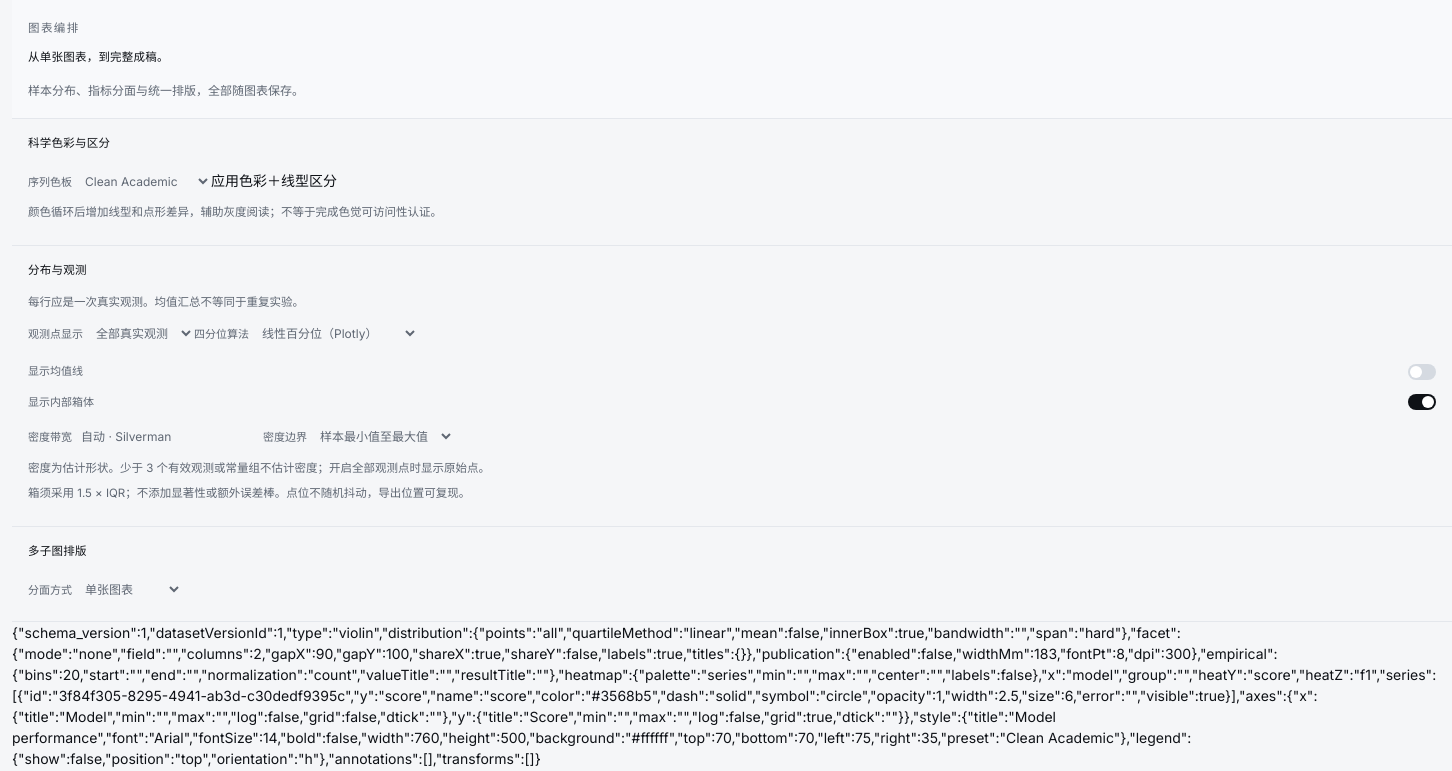
Test: professional plots › edits distribution and subplot settings together without losing them on type switches
This screenshot has width=1452, height=771.
Type "0.3" into the field labelled "密度带宽" at point(168, 437), box 72,422 -> 263,453
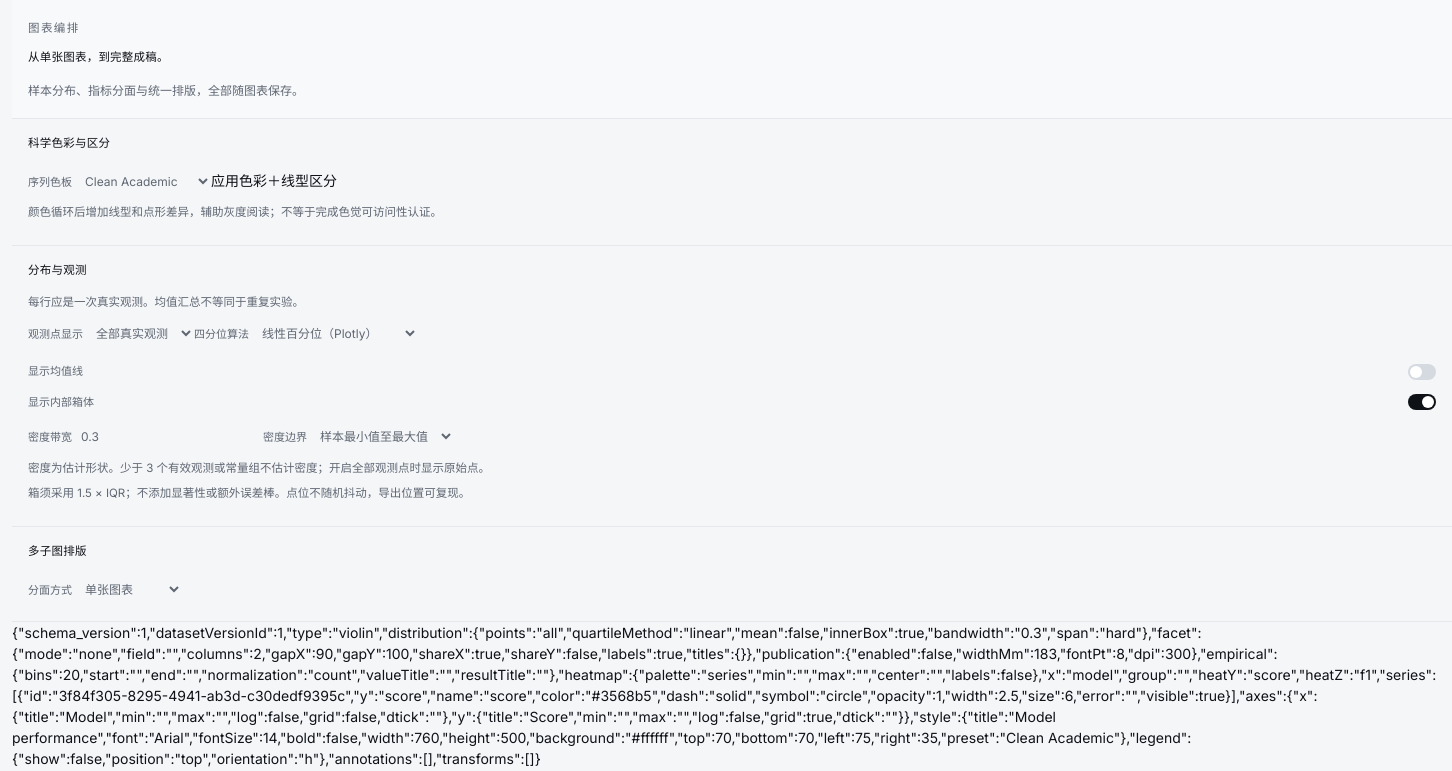
Select "按字段类别" in the dropdown labelled "分面方式" at point(127, 590), box 72,574 -> 182,605
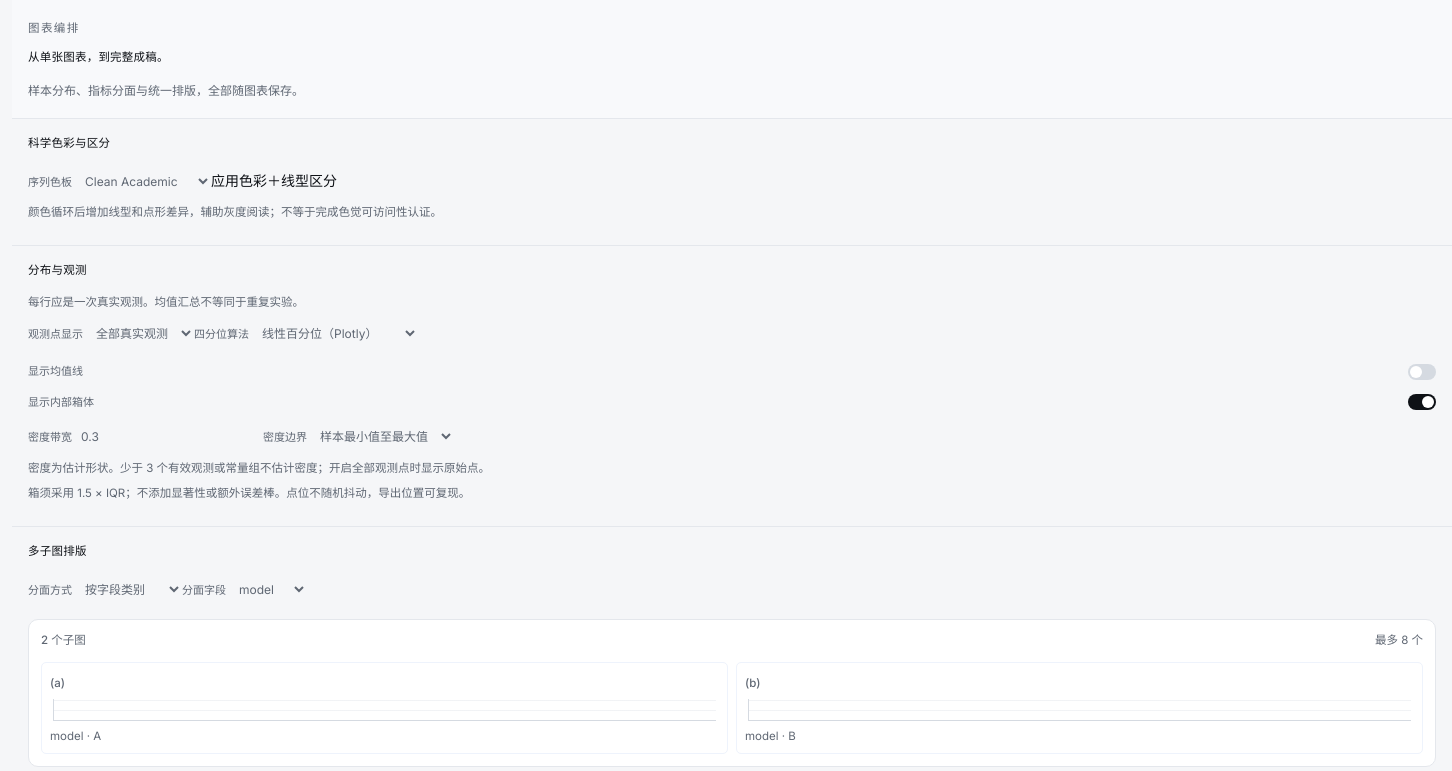
Select "dataset" in the dropdown labelled "分面字段" at point(266, 590), box 226,574 -> 307,605
(page scrolled)
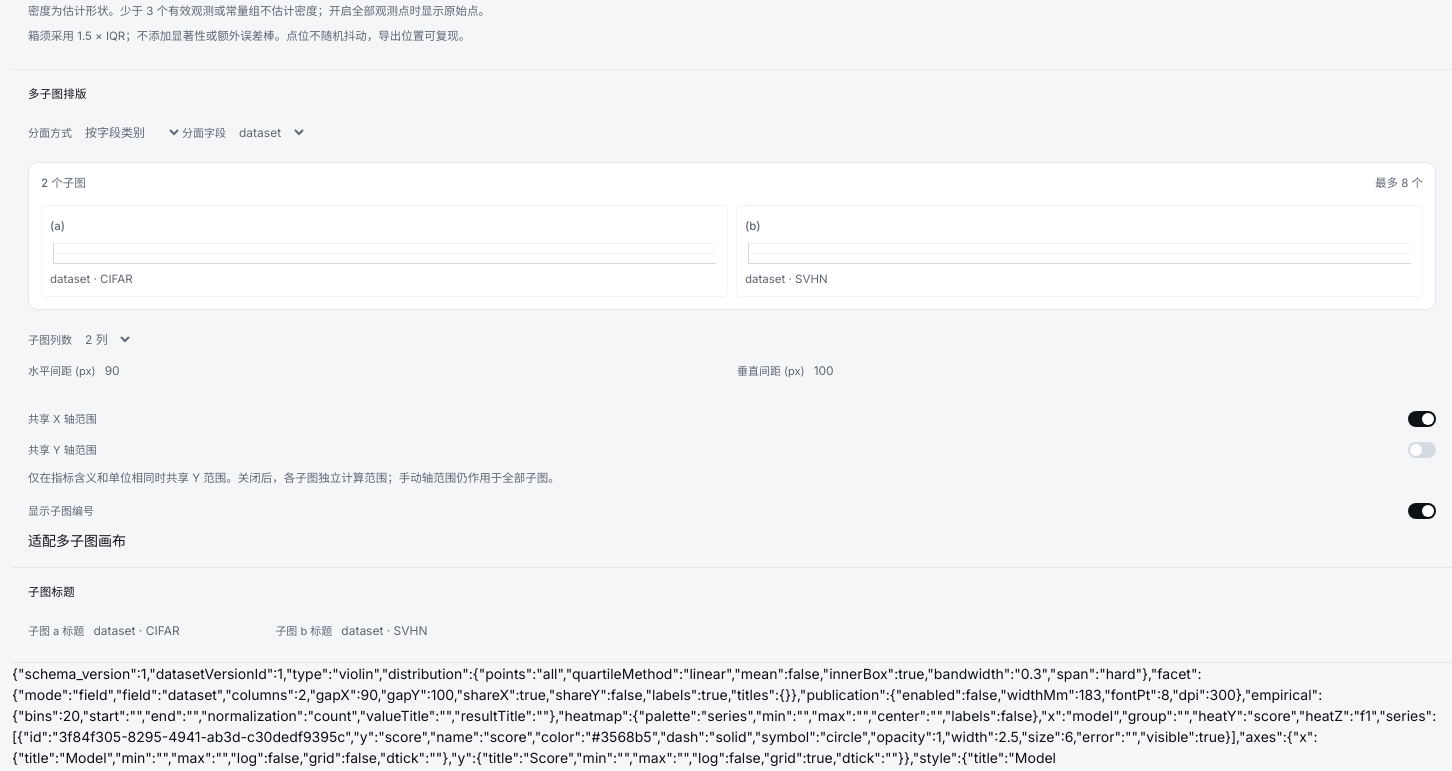
Replace the text in the field labelled "子图 a 标题" with "Dataset A" at point(180, 631), box 84,615 -> 275,646
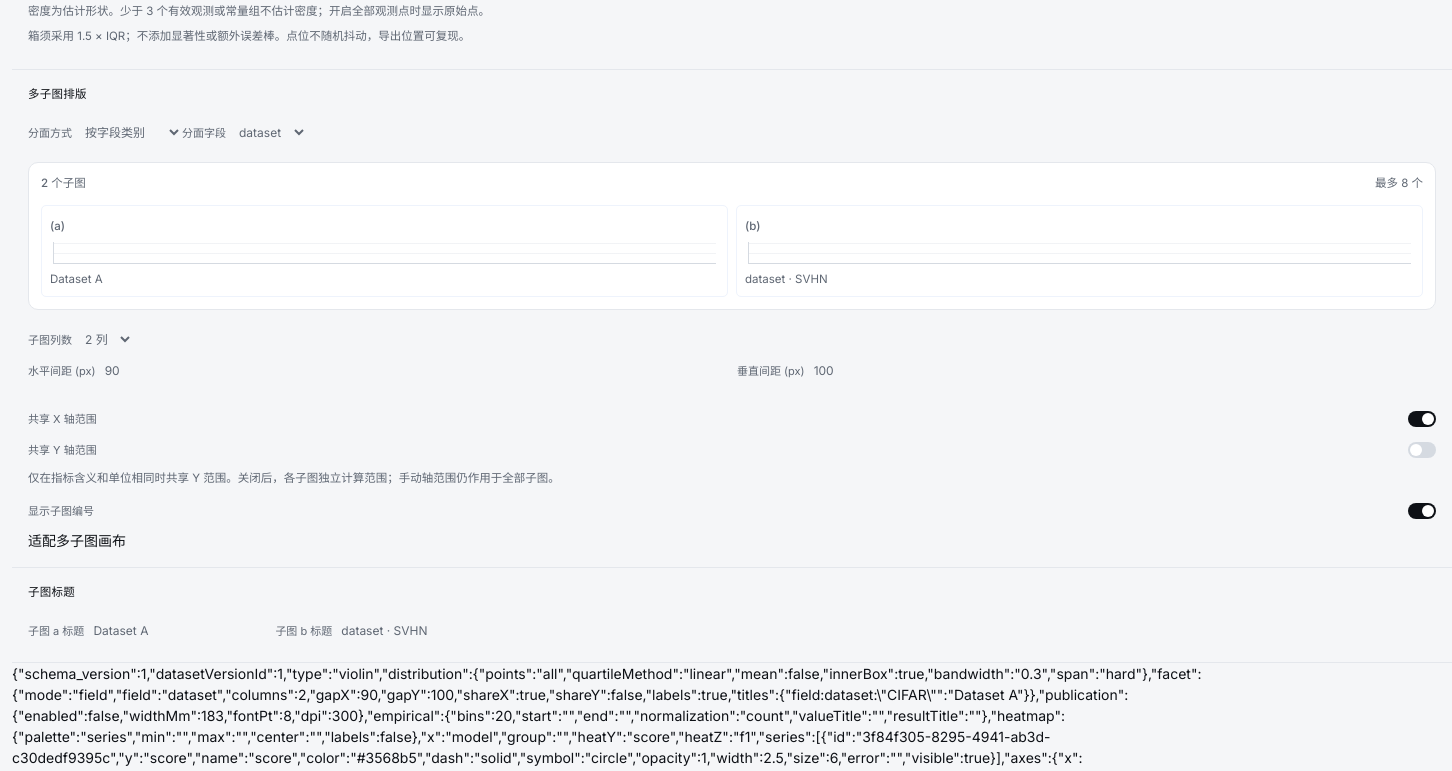
Check: the text "Dataset A" is shown, box 50,272 -> 103,286
